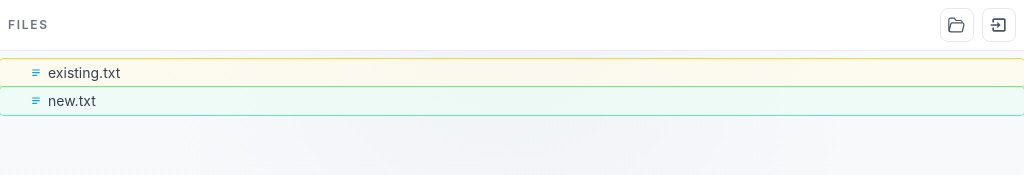
FileTree › shows a conflict message when an imported filename already exists
Check: the text "existing.txt" is shown, box [48,63,120,83]
What coordinates should you click on to do the following:
click the button named "Import files"
I would click on:
 (999, 25)
Its box is [982,8,1016,42].
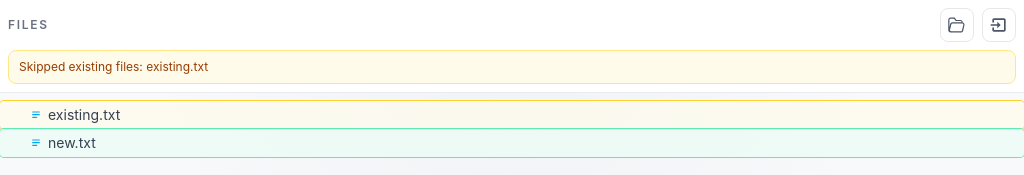
Check: the text "Skipped existing files: existing.txt" is shown, box [8,50,1016,84]
